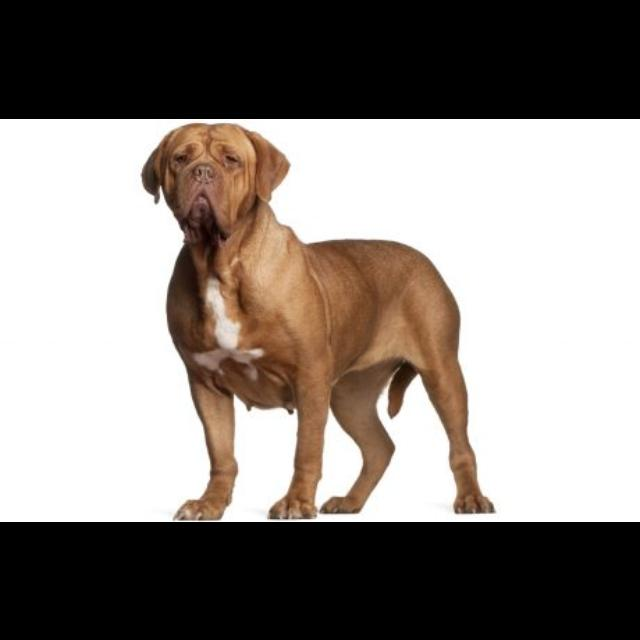dogue_de_bordeaux: (140, 121, 496, 521)
